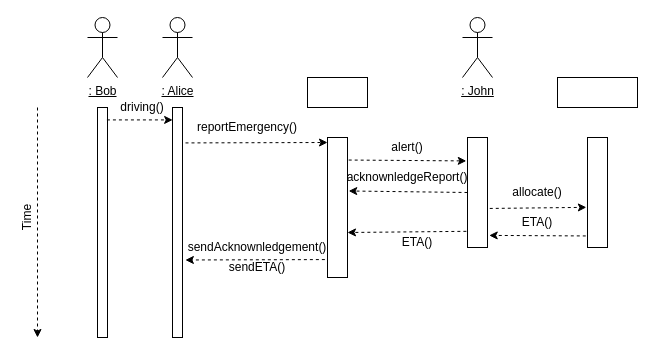
This 655x363 diagram has some shape labels left out. Each missing label, with the centre of its shape:
: FRIEND: point (337, 92)
: INCIDENT: point (597, 92)
